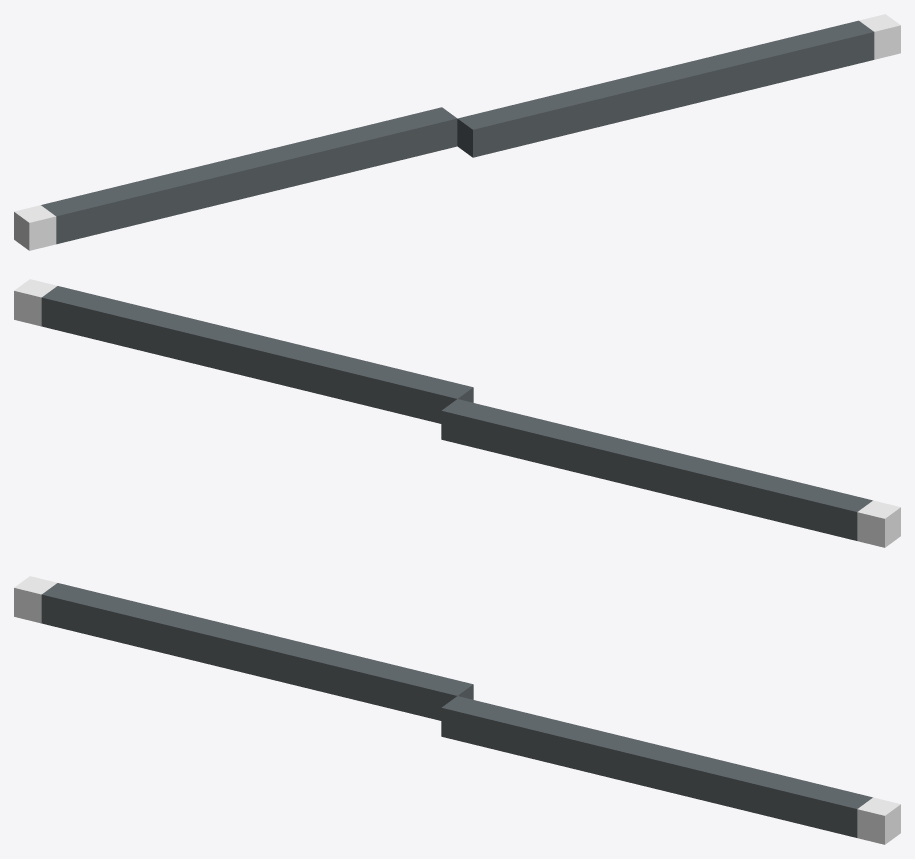
The model's file is scout_heli_rotor.obj.
3 renders of one model, top to bottom at view 1: azimuth 30°, elevation 25°; view 2: azimuth 150°, elevation 25°; view 3: azimuth 330°, elevation 25°, orthographic. The views are drawn at different scales.
Bounding box in the file's own units: 3.2 × 0.1 × 0.2.
Materials: 1 (1 with a texture image).
